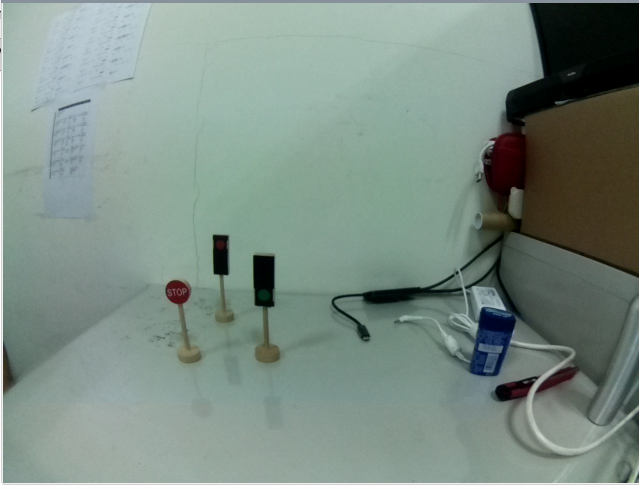Green: (249, 248, 282, 314)
Red: (209, 230, 235, 280)
Stop: (161, 276, 194, 308)
